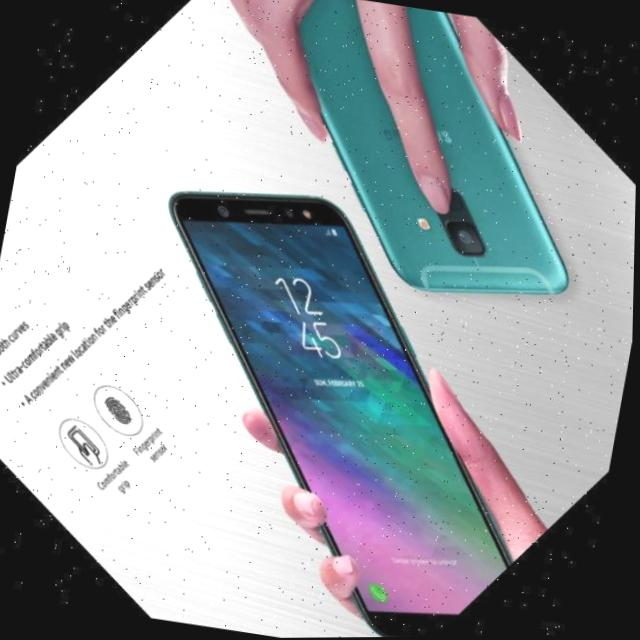Smartphone: (159, 193, 512, 638), (267, 0, 579, 289)
